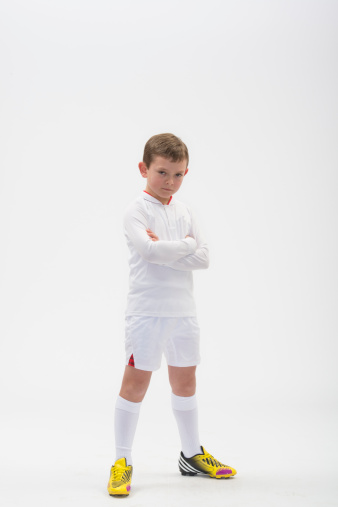em pe: (95, 125, 220, 490)
